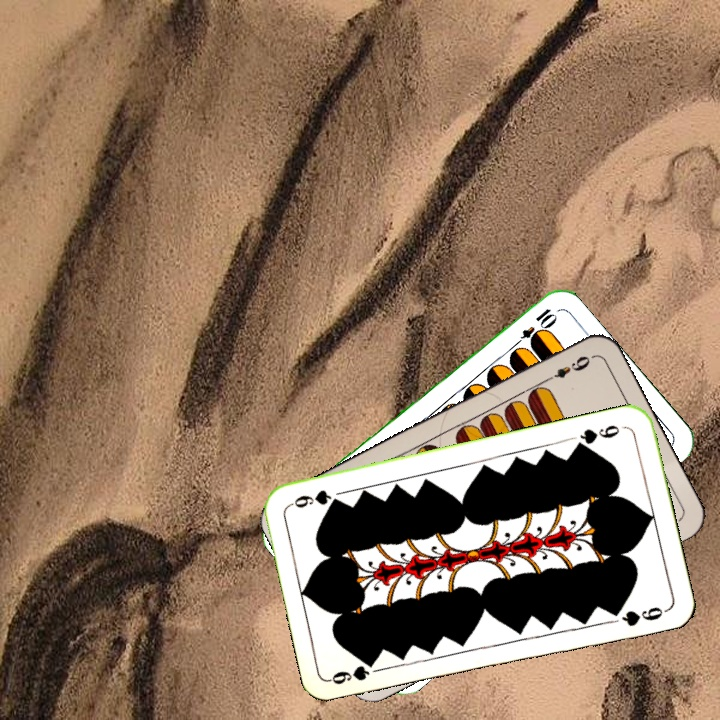E10: (508, 304, 558, 351)
E9: (540, 351, 595, 385)
G9: (571, 420, 628, 451), (327, 663, 372, 687)
